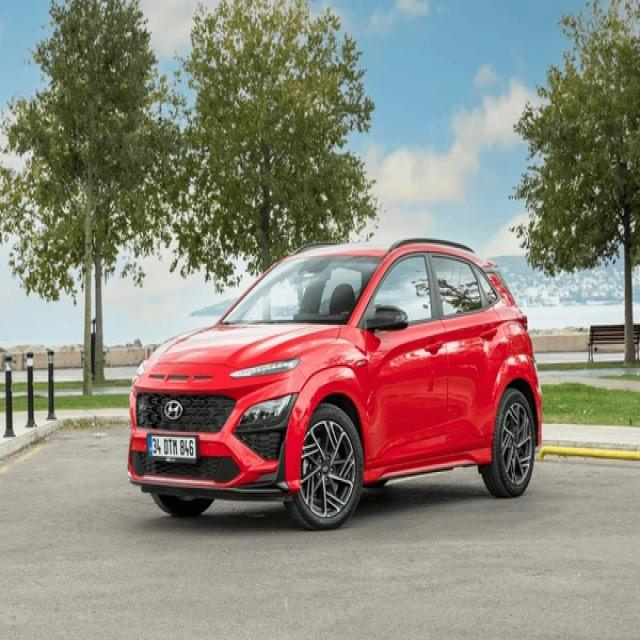hyundai: (162, 401, 185, 419)
